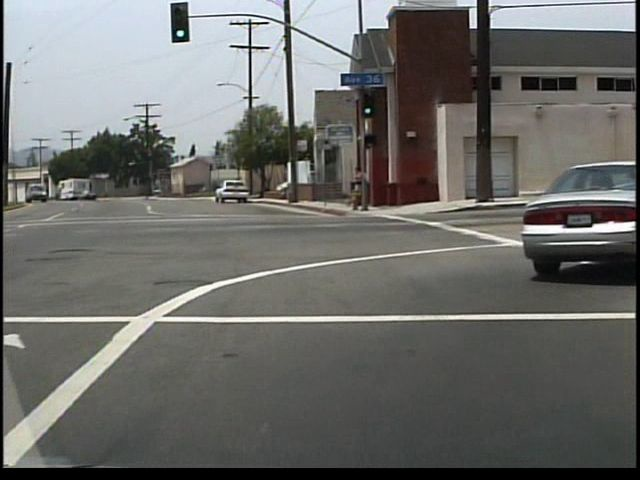person: (354, 168, 374, 214)
